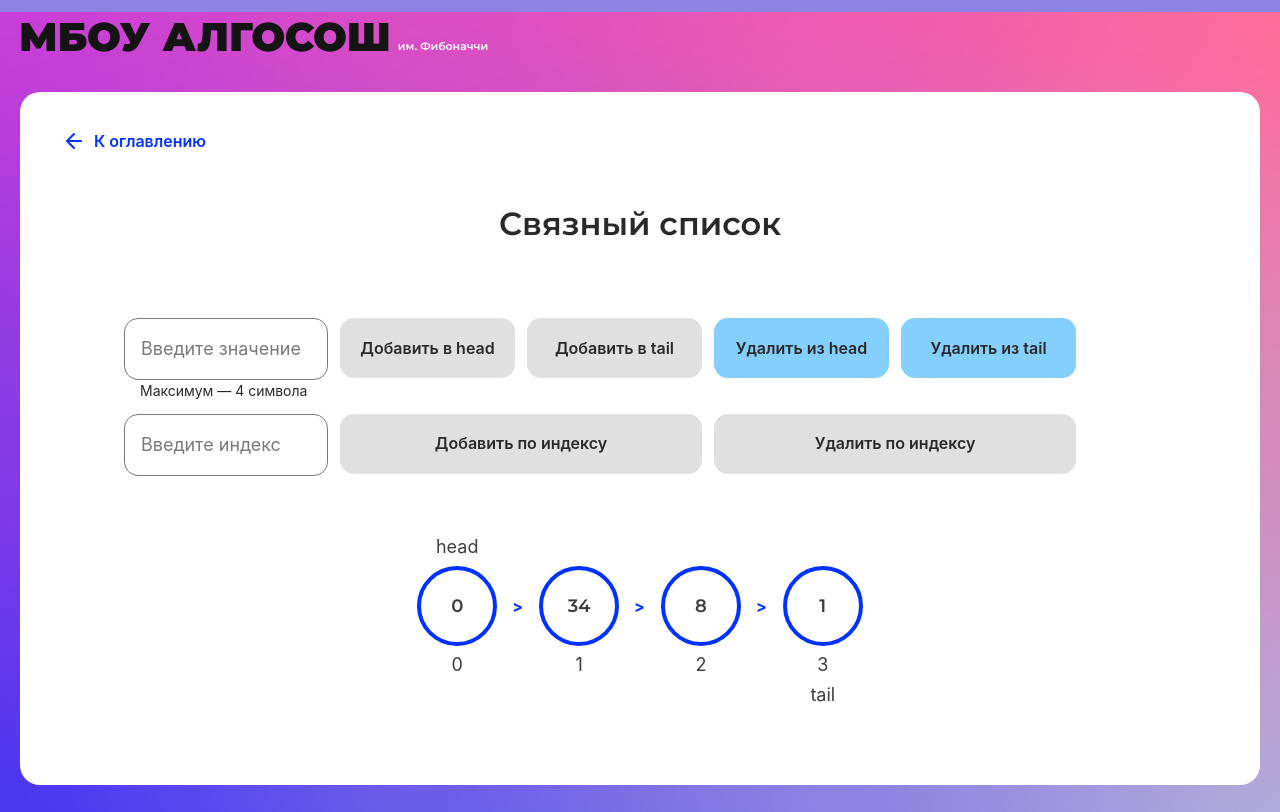
Test: List Page › Корректное добавление элемента в tail
In the field with test id "listSymbolInput": (226, 349) [124,318,328,380], type "35"
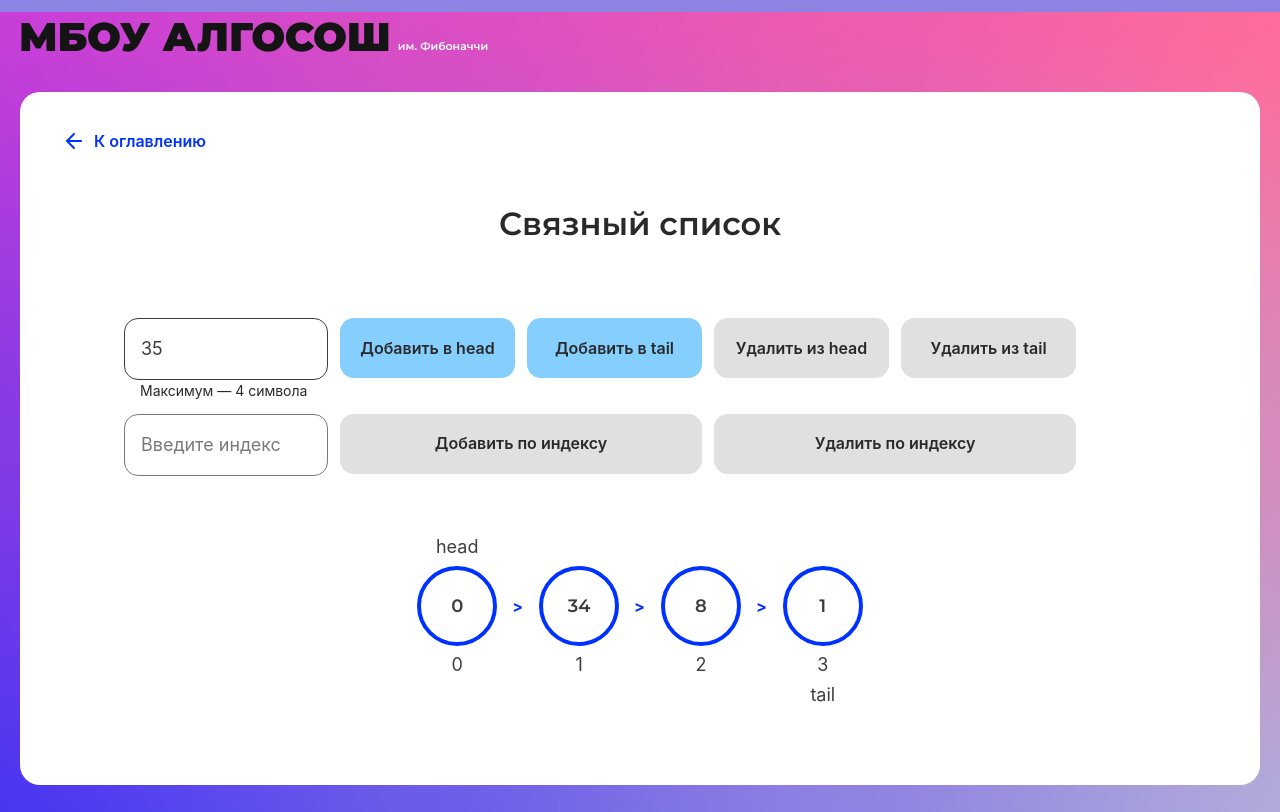
Click the button with test id "addToTail": (615, 348) [527,318,702,378]
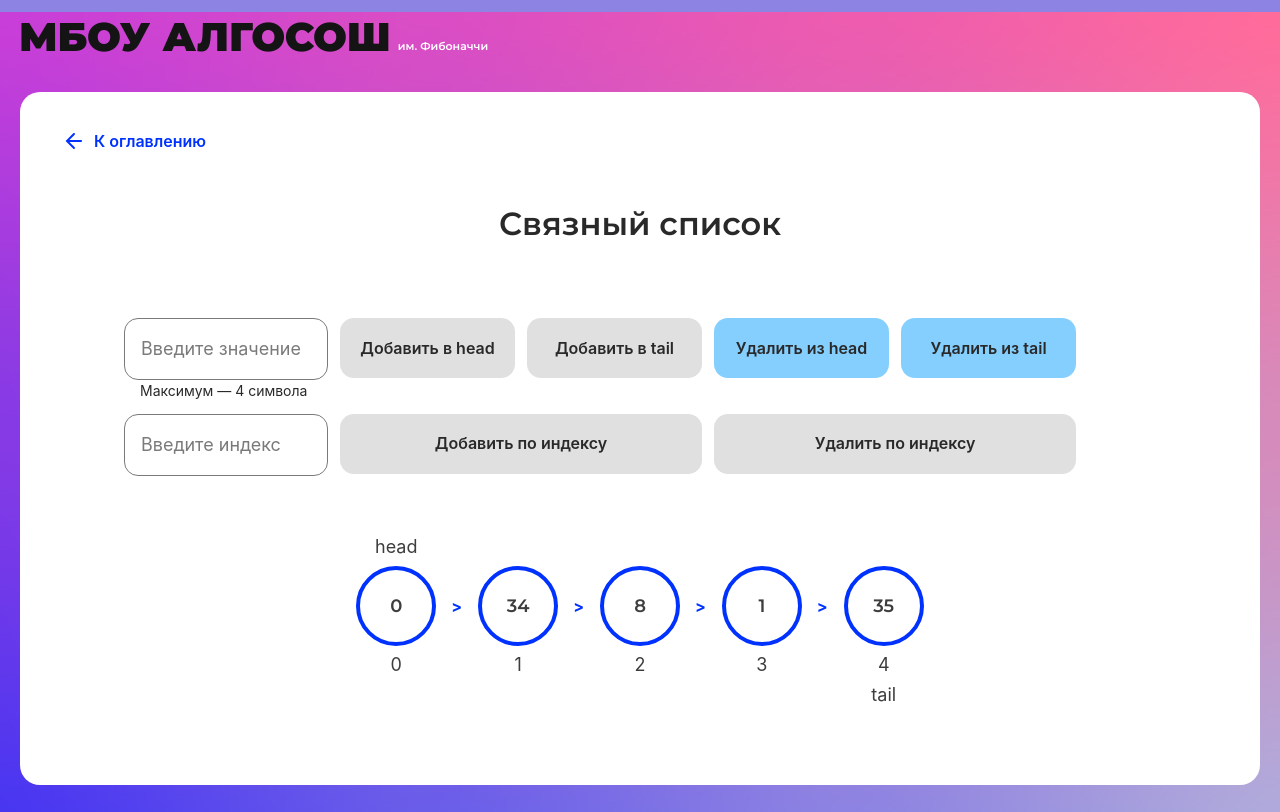
Expected: the text "tail" is shown, [871,684,896,706]
Expected: the element with test id "circle" reads "35", [844,566,924,646]
